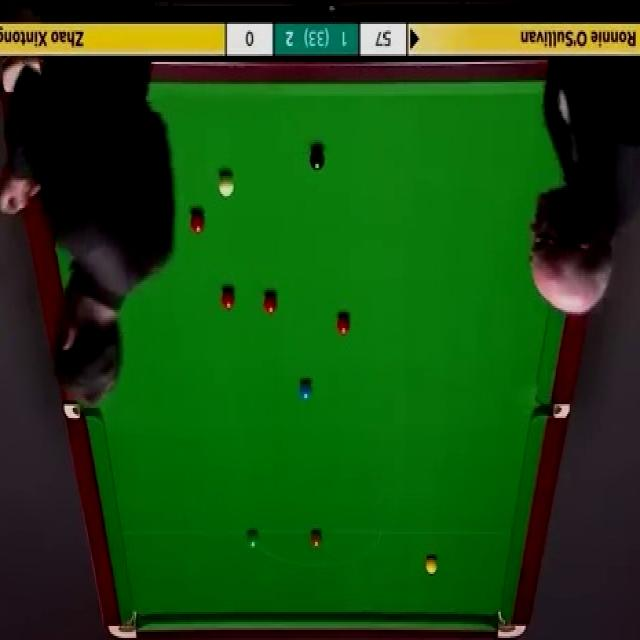black-ball: (308, 148, 324, 172)
blue-ball: (299, 378, 312, 404)
brown-ball: (309, 531, 323, 549)
green-ball: (245, 530, 260, 552)
red-ball: (263, 290, 278, 316), (220, 286, 235, 311), (190, 212, 206, 234), (337, 316, 351, 337)
white-ball: (220, 168, 238, 198)
yellow-ball: (425, 555, 437, 574)
